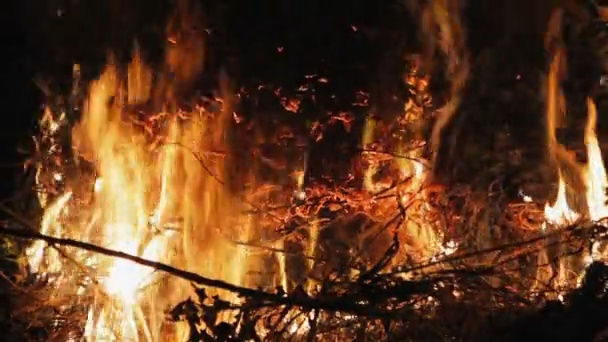fire: (18, 39, 318, 342), (581, 118, 608, 222), (544, 183, 575, 226), (580, 238, 608, 265), (409, 161, 426, 181)
